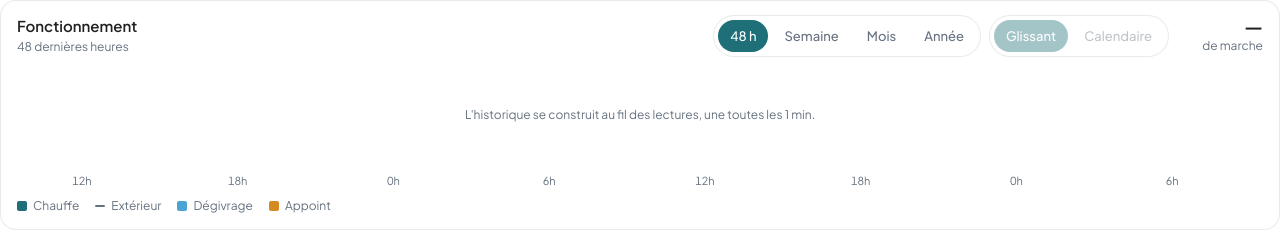
Test case: HeatingHistoryChart › sums the days into months for the year
Click the tab with class "segmented__item" showing "Année" at x=944, y=36, box [912, 20, 976, 52]
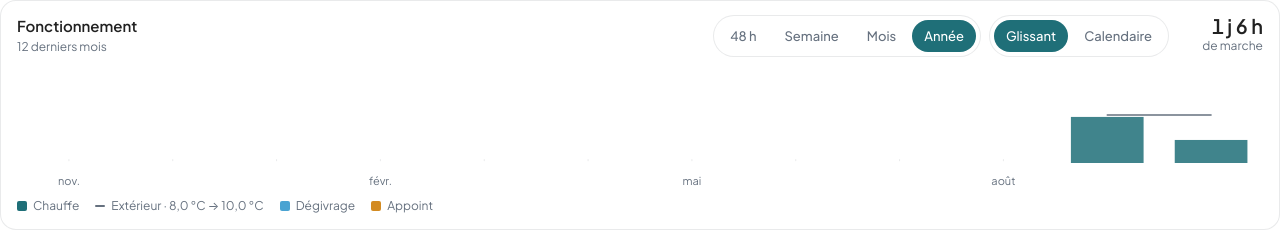
Check: the text with class "hist__value" reads "1 j 6 h", box [1212, 13, 1263, 38]
